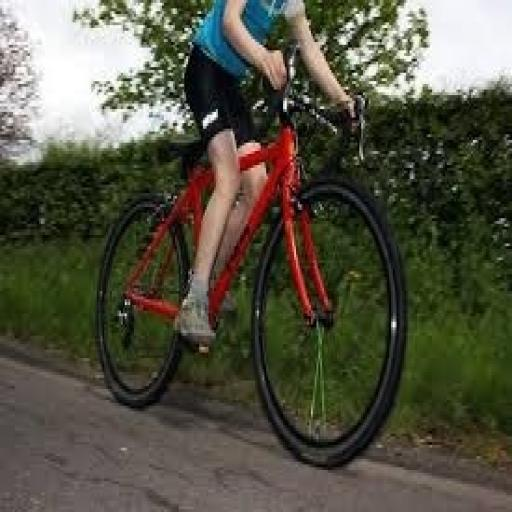cycling: (171, 0, 367, 353)
